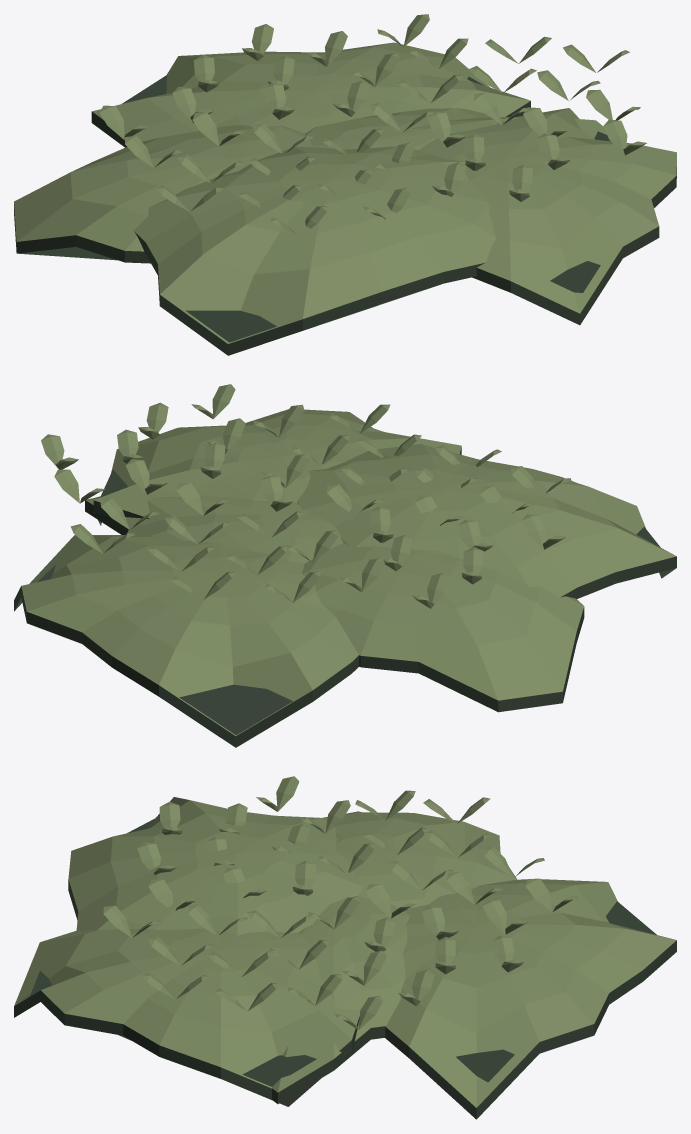
Rendered from CUSHION_MOSS.hi.glb.
The picture shows the model from 3 angles, top to bottom: view 1: azimuth 30°, elevation 25°; view 2: azimuth 150°, elevation 25°; view 3: azimuth 270°, elevation 25°; orthographic projection.
Visible parts, largest first — view 1: CUSHION_MOSS; view 2: CUSHION_MOSS; view 3: CUSHION_MOSS.
Part boxes in pixels (<box>): CUSHION_MOSS: <box>14,14,676,355</box>; CUSHION_MOSS: <box>14,384,676,747</box>; CUSHION_MOSS: <box>14,776,676,1119</box>.
Size of the model in its own units: 0.4584 by 0.0923 by 0.4641.
Materials: 1 (1 with a texture image).
